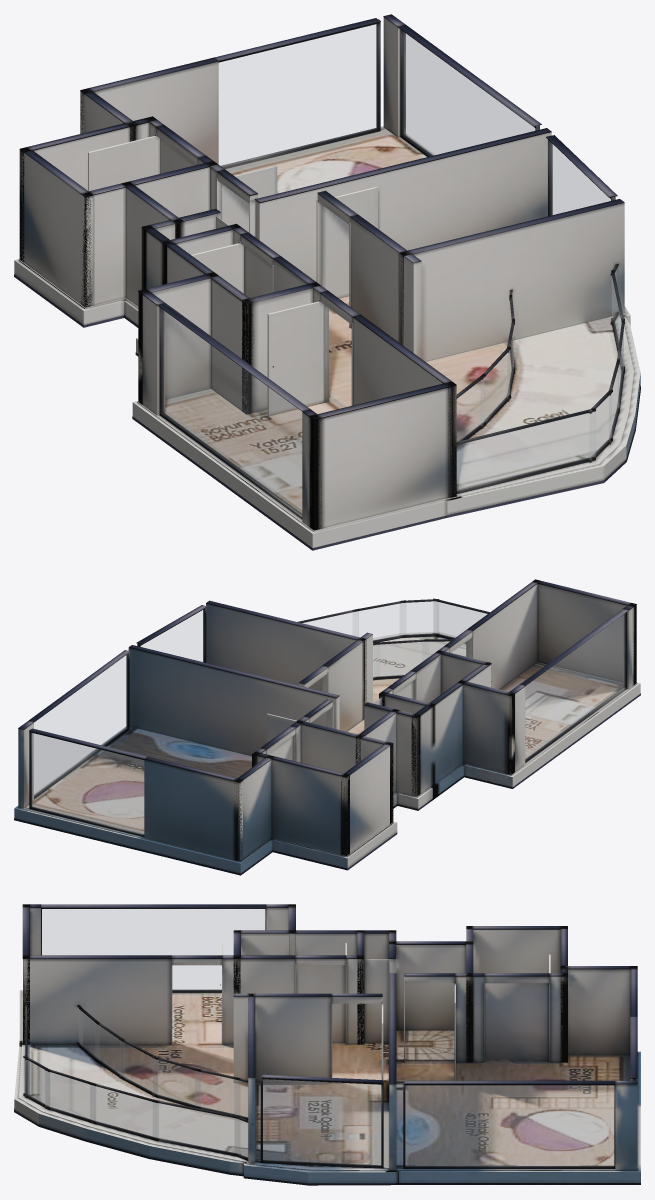
3 views of the same model, one above another, from view 1: azimuth 30°, elevation 25°; view 2: azimuth 150°, elevation 25°; view 3: azimuth 270°, elevation 25° (orthographic). The views are drawn at different scales.
Parts seen in each view (by area): view 1: plan, glass0_m, glass3_m, glass1_m, railg8_m, glass2_m, railg3_m, railg2_m, railg13_m; view 2: plan, glass0_m, glass3_m, glass1_m, glass2_m, railg3_m, railg12_m, railg13_m, railg8_m, railg11_m; view 3: plan, glass1_m, glass3_m, glass2_m, railg10_m, railg11_m, railg12_m, railg4_m, railg5_m, railg3_m, railg2_m, railg13_m (+3 smaller).
Boxes of the visible parts, x1,y1,x2,y2 form: plan: (14,14,640,550); glass0_m: (219,24,376,165); glass3_m: (162,309,301,514); glass1_m: (403,32,534,155); railg8_m: (457,412,595,490); glass2_m: (551,143,610,214); railg3_m: (481,351,509,424); railg2_m: (457,377,484,441); railg13_m: (590,393,611,458); plan: (14,579,640,875); glass0_m: (31,733,143,834); glass3_m: (525,614,624,759); glass1_m: (34,655,126,795); glass2_m: (141,610,203,661); railg3_m: (374,642,428,676); railg12_m: (353,603,405,640); railg13_m: (400,601,438,634); railg8_m: (434,601,486,637); railg11_m: (303,611,358,636); plan: (14,904,640,1185); glass1_m: (405,1085,613,1166); glass3_m: (42,909,264,989); glass2_m: (263,1079,380,1165); railg10_m: (153,1102,239,1153); railg11_m: (90,1085,158,1138); railg12_m: (45,1071,95,1120); railg4_m: (153,1058,200,1106); railg5_m: (195,1071,239,1115); railg3_m: (120,1040,157,1094); railg2_m: (96,1024,124,1076); railg13_m: (24,1058,50,1107).
Size of the model in its own units: 10.28 by 2.62 by 14.92.
Materials: 2 (1 with a texture image).
